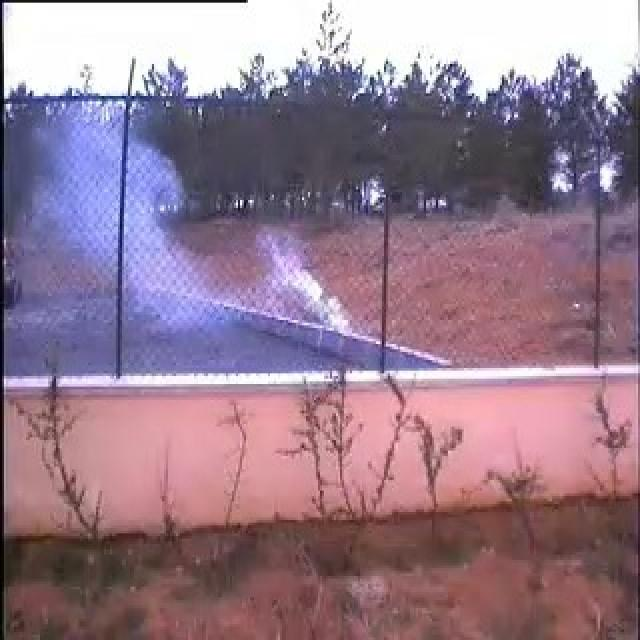smoke: (35, 117, 346, 336)
